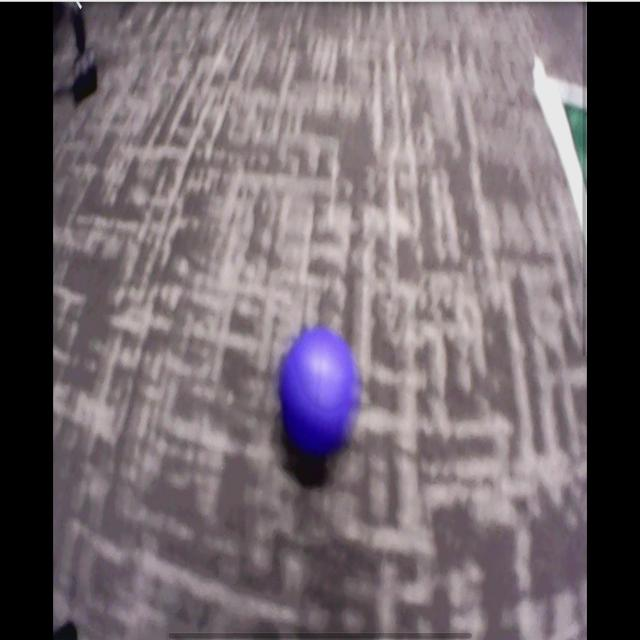ball: (281, 328, 357, 450)
